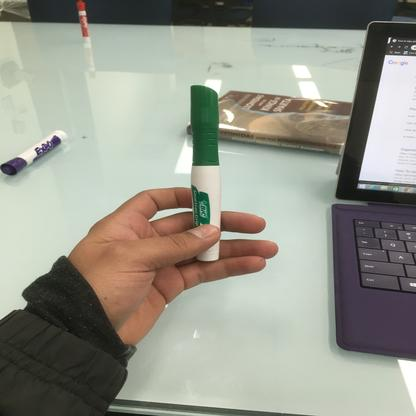expo_marker: (174, 81, 228, 266), (1, 125, 72, 185), (70, 2, 98, 44)
